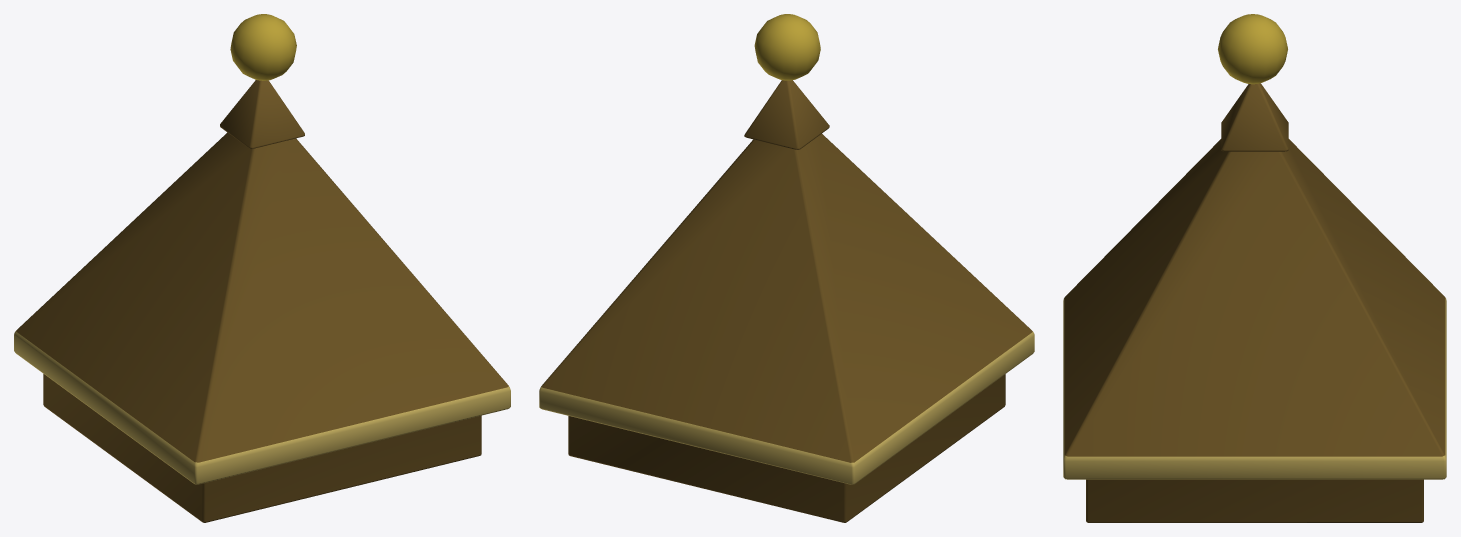
The model's file is FM_H_Doll_Arch_Top_001.fbx.
The picture shows the model from 3 angles, left to right: view 1: azimuth 30°, elevation 25°; view 2: azimuth 150°, elevation 25°; view 3: azimuth 270°, elevation 25°; orthographic projection. The views are drawn at different scales.
Parts seen in each view (by area): view 1: H_Doll_Arch_Top_001; view 2: H_Doll_Arch_Top_001; view 3: H_Doll_Arch_Top_001.
Part boxes in pixels (x1,y1,x2,y2): H_Doll_Arch_Top_001: [14, 14, 510, 522]; H_Doll_Arch_Top_001: [539, 14, 1034, 522]; H_Doll_Arch_Top_001: [1063, 14, 1446, 522].
Bounding box in the file's own units: 4.53 × 5.68 × 4.53.
